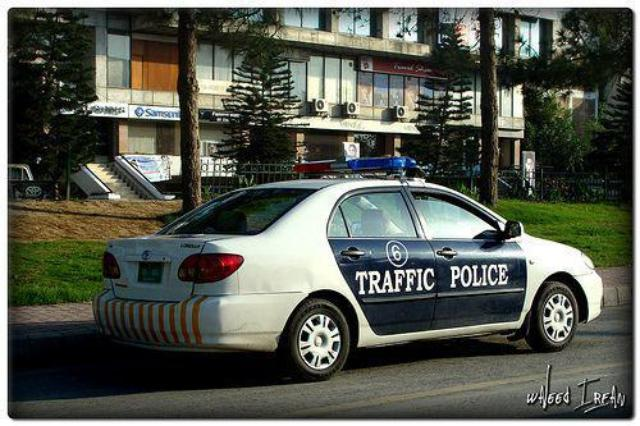police_car: (97, 143, 607, 375)
